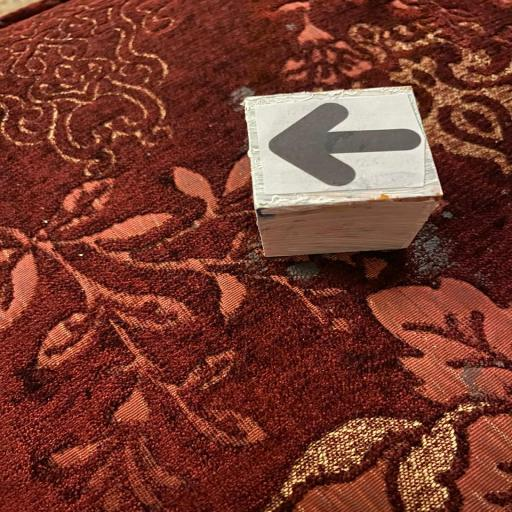Back: (236, 79, 455, 267)
